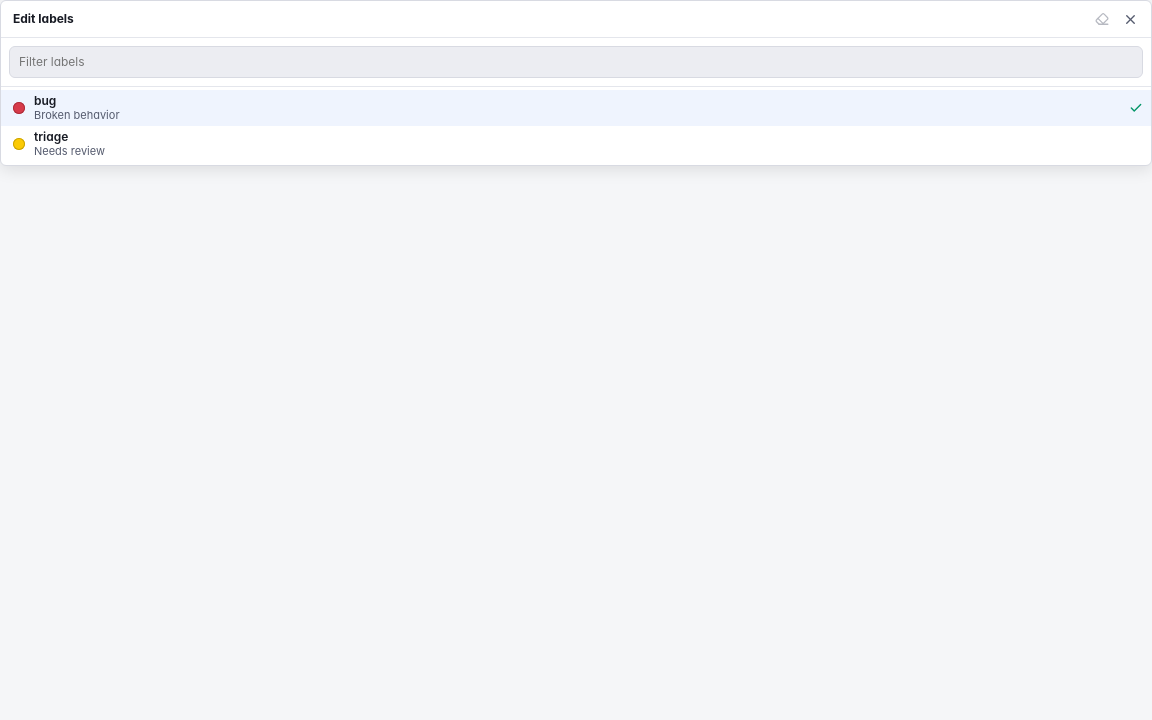
Test: LabelPicker › filters catalog labels and marks assigned labels checked
Type "tri" into the search field labelled "Filter labels".
click(576, 62); type("tri")  # box [9,46,1143,78]
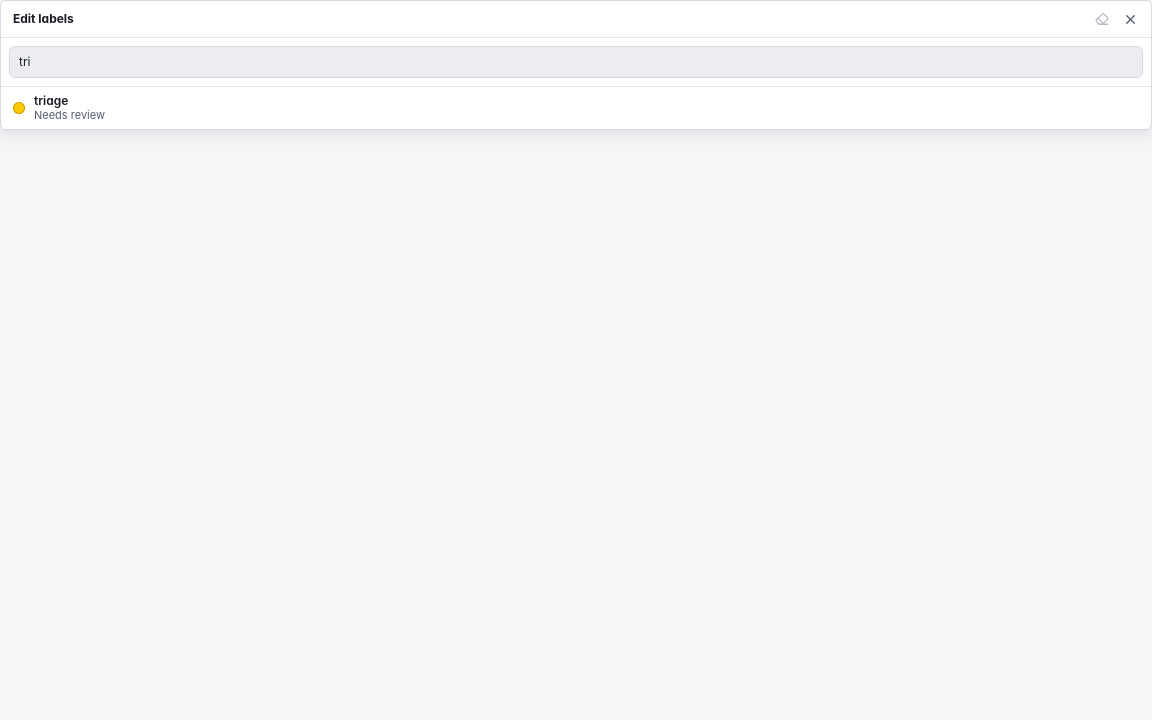
Expected: the menu item "triage Needs review" is shown, [1,90,1151,126]
Now the menu item "bug" is gone
